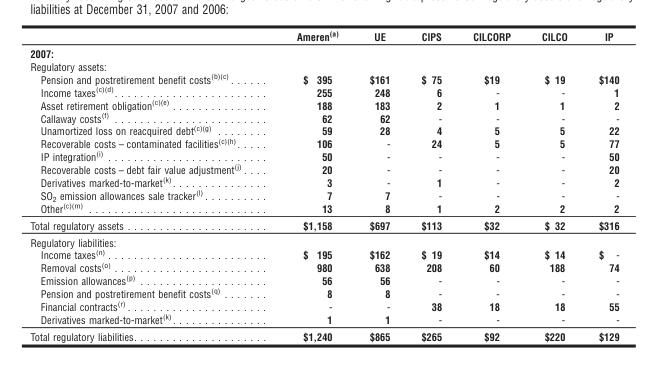table: (29, 28, 618, 342)
table column: (29, 28, 270, 342), (270, 28, 353, 342), (456, 28, 525, 342), (525, 28, 582, 342), (404, 28, 456, 342), (353, 28, 404, 342), (582, 28, 618, 342)
table column header: (29, 28, 618, 44)
table projected row header: (29, 44, 618, 59), (29, 233, 618, 247), (29, 59, 618, 71)
table row: (29, 216, 618, 233), (29, 28, 618, 44), (29, 44, 618, 59), (29, 201, 618, 216), (29, 312, 618, 327), (29, 327, 618, 342), (29, 233, 618, 247), (29, 71, 618, 84), (29, 84, 618, 97), (29, 97, 618, 110), (29, 110, 618, 123), (29, 123, 618, 136), (29, 136, 618, 149), (29, 149, 618, 162), (29, 162, 618, 175), (29, 175, 618, 188), (29, 188, 618, 201), (29, 247, 618, 260), (29, 260, 618, 273), (29, 273, 618, 286), (29, 286, 618, 299), (29, 299, 618, 312), (29, 59, 618, 71)
